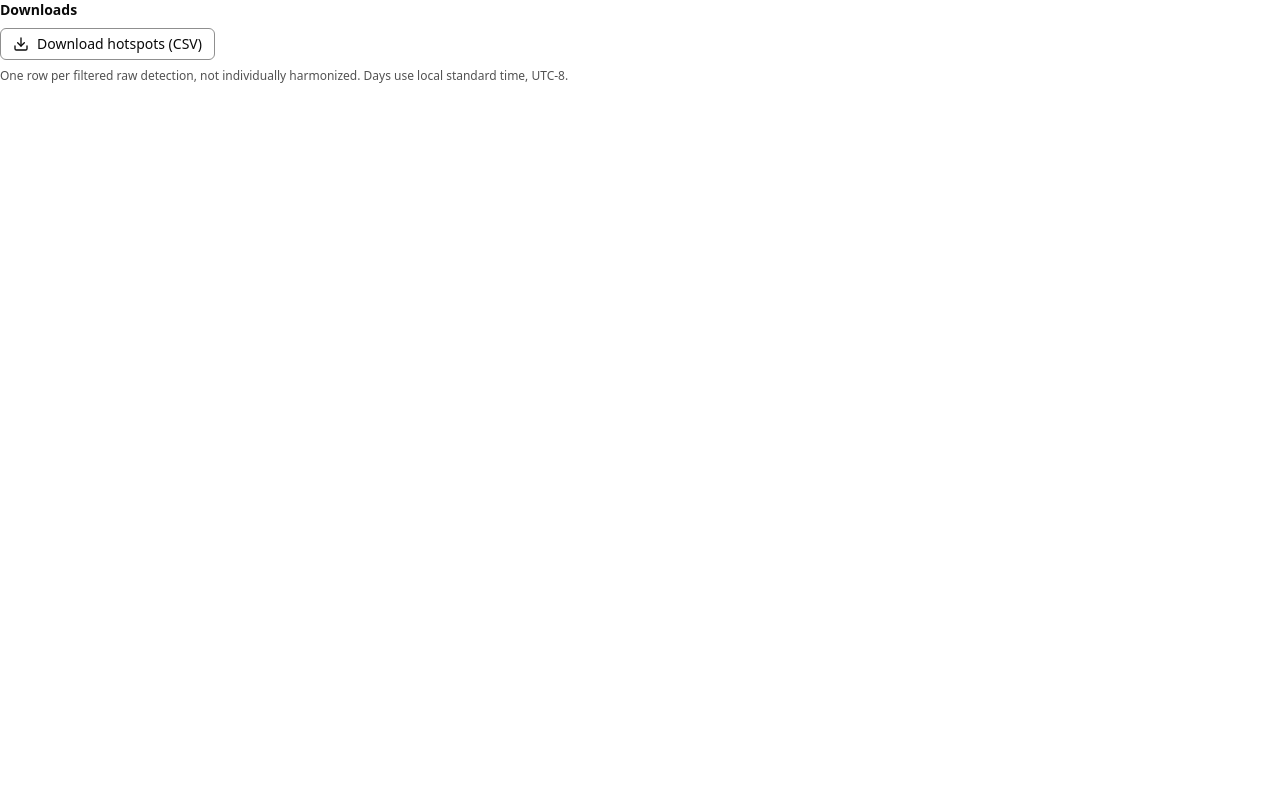
Scenario: DownloadsMenu with the Blob fallback › posts the area and exact dates, saves the file under the server name and announces it
The image size is (1280, 800).
Click the button "Download hotspots (CSV)": (108, 44) [0,28,215,60]
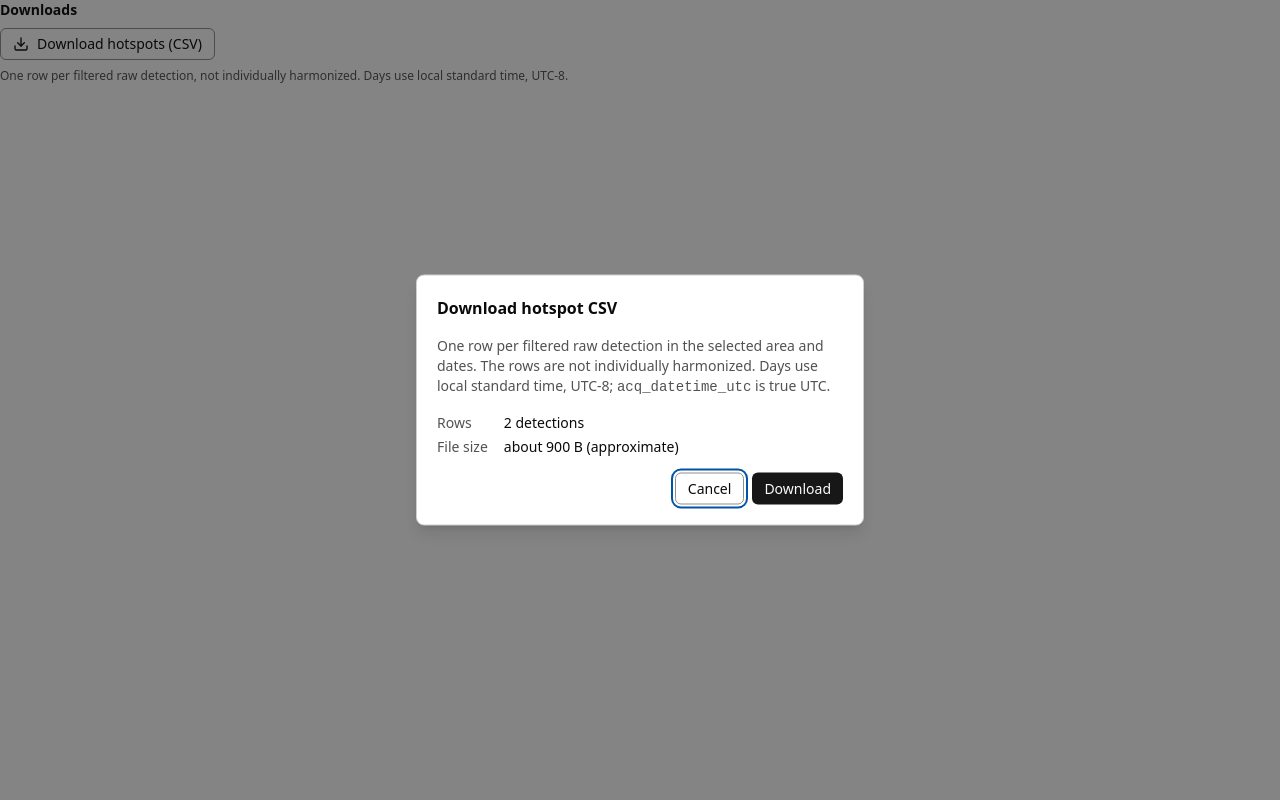
Click the button "Download": (798, 488) [752,472,843,504]
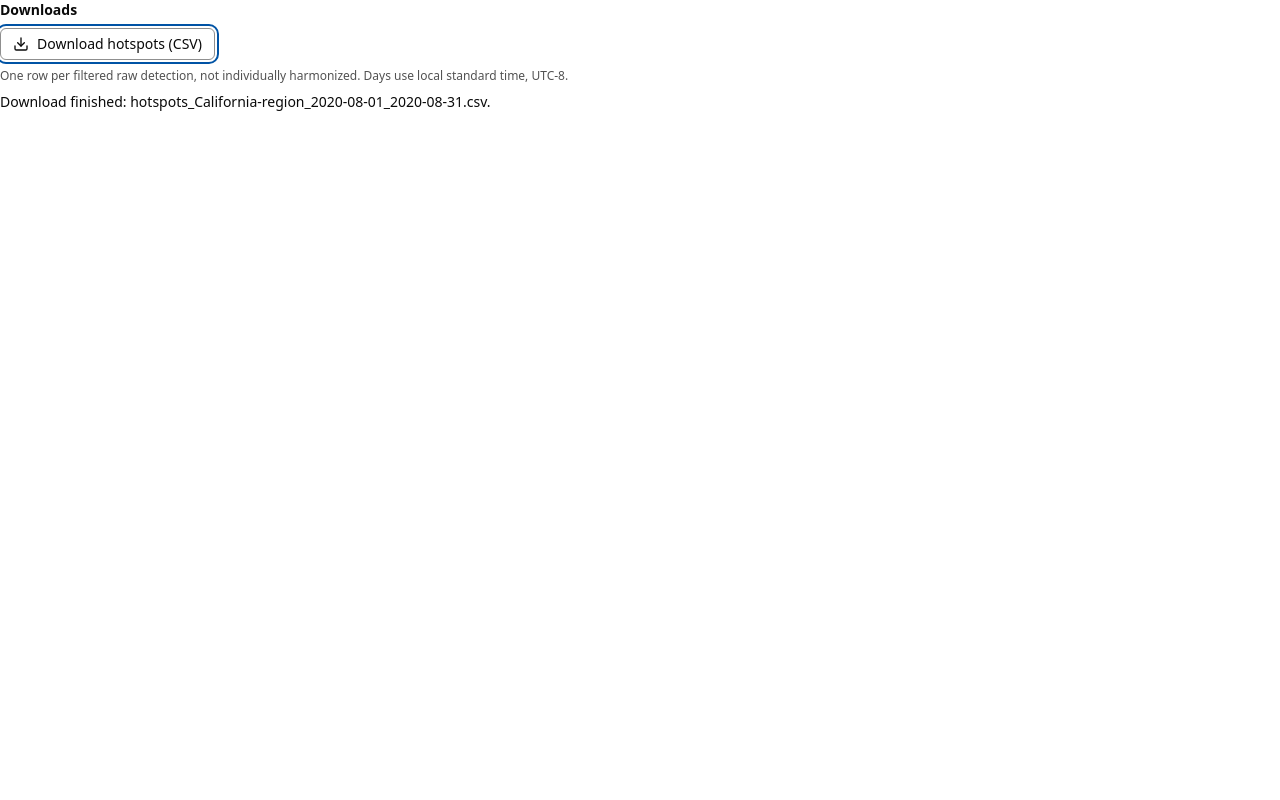
Expected: the message with test id "download-status" shows "Download finished", [0,92,491,111]
